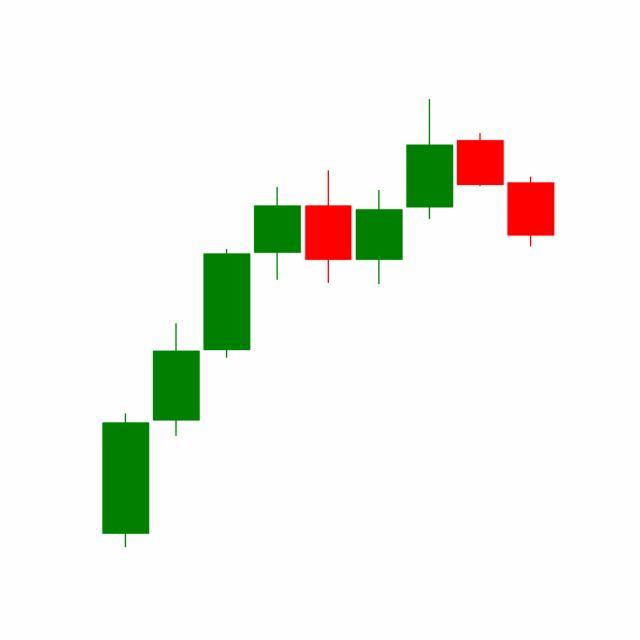Hikkake Pattern: (302, 100, 555, 289)
